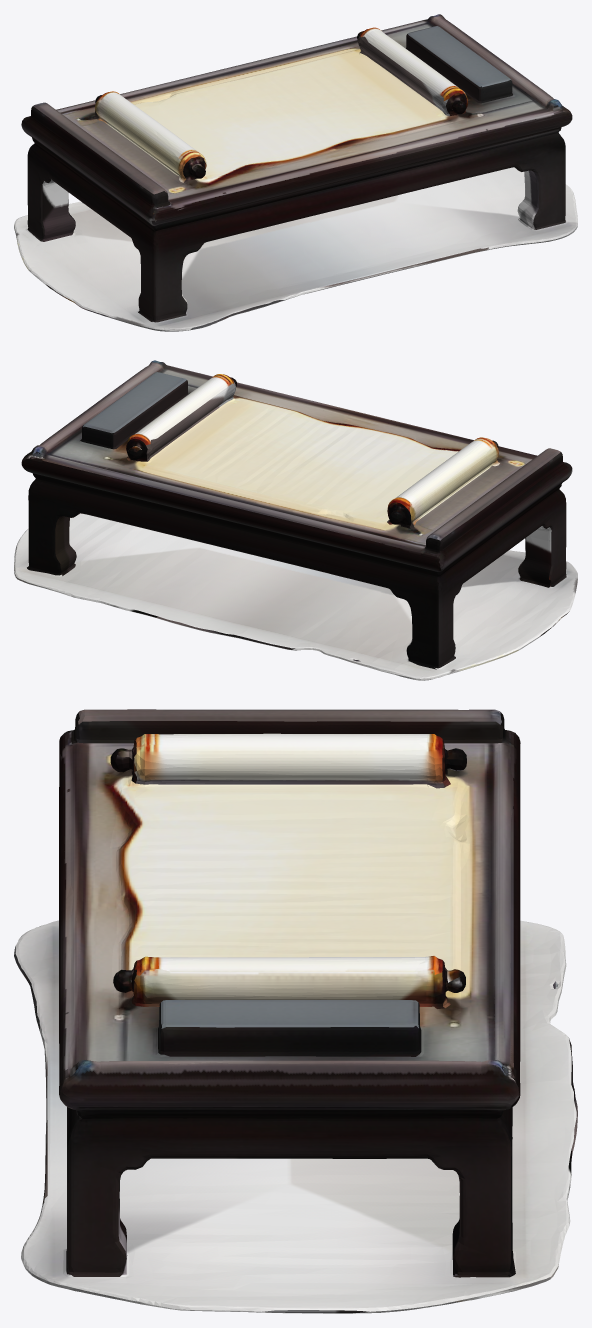
File: traveler_env_coast_autumn_soshi_writing_set_00001_.glb
The picture shows the model from 3 angles, top to bottom: view 1: azimuth 30°, elevation 25°; view 2: azimuth 150°, elevation 25°; view 3: azimuth 270°, elevation 25°; orthographic projection. The views are drawn at different scales.
Visible parts, largest first — view 1: temp_mesh.ply; view 2: temp_mesh.ply; view 3: temp_mesh.ply.
Boxes of the visible parts, box(x1,y1,x2,y2) form: temp_mesh.ply: box(14, 14, 577, 331); temp_mesh.ply: box(14, 360, 577, 680); temp_mesh.ply: box(14, 709, 577, 1313).
Bounding box in the file's own units: 1.97 × 0.5732 × 1.12.
Materials: 1 (1 with a texture image).
